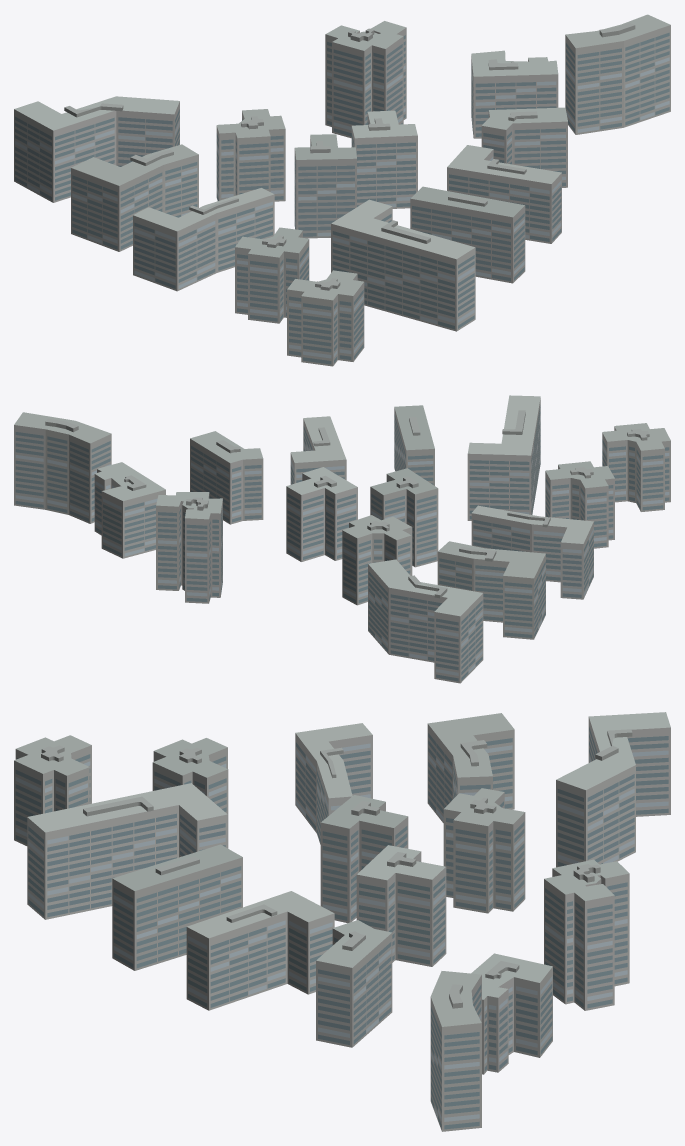
The model's file is apt-a15807004.glb.
3 views of the same model, one above another, from view 1: azimuth 30°, elevation 25°; view 2: azimuth 150°, elevation 25°; view 3: azimuth 270°, elevation 25° (orthographic). The views are drawn at different scales.
Visible parts, largest first — view 1: apt-a15807004; view 2: apt-a15807004; view 3: apt-a15807004.
Part boxes in pixels (x1,y1,x2,y2): apt-a15807004: (14, 14, 670, 366); apt-a15807004: (14, 395, 670, 683); apt-a15807004: (14, 712, 670, 1131).
Size of the model in its own units: 278 by 44 by 228.
